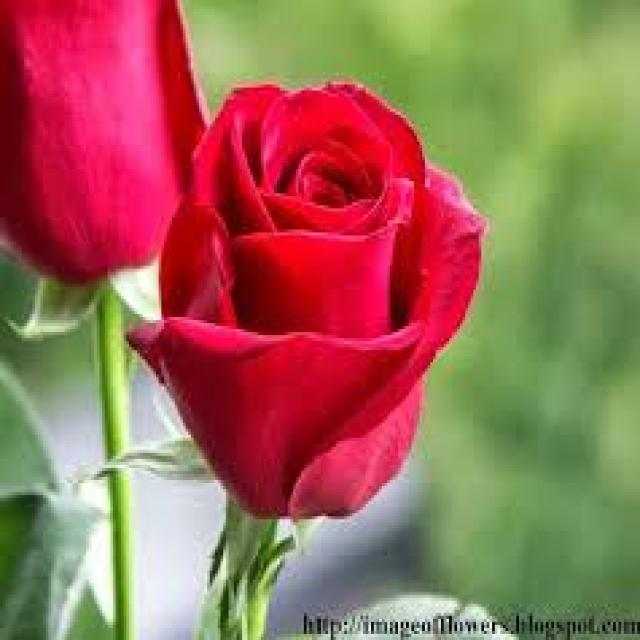rose: (135, 53, 483, 540)
